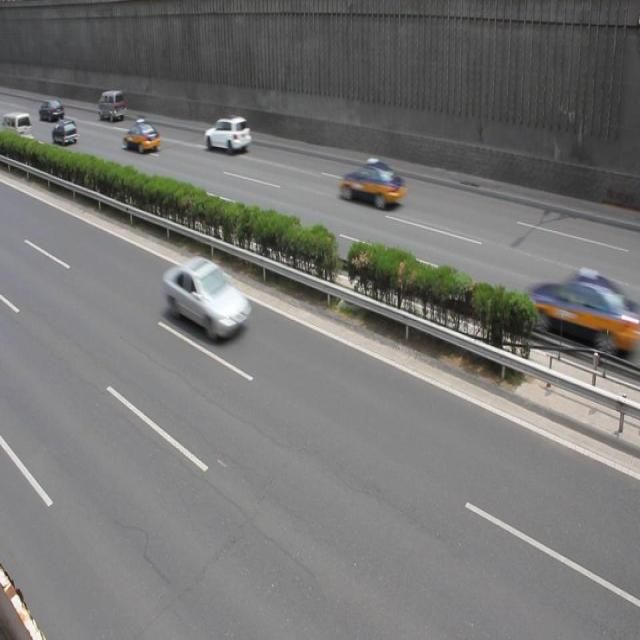car: (520, 269, 623, 353), (164, 254, 250, 342), (341, 159, 406, 210), (203, 117, 252, 153), (122, 120, 160, 155), (39, 98, 64, 122), (52, 122, 77, 146)
truck: (1, 113, 34, 148), (98, 91, 126, 121)
